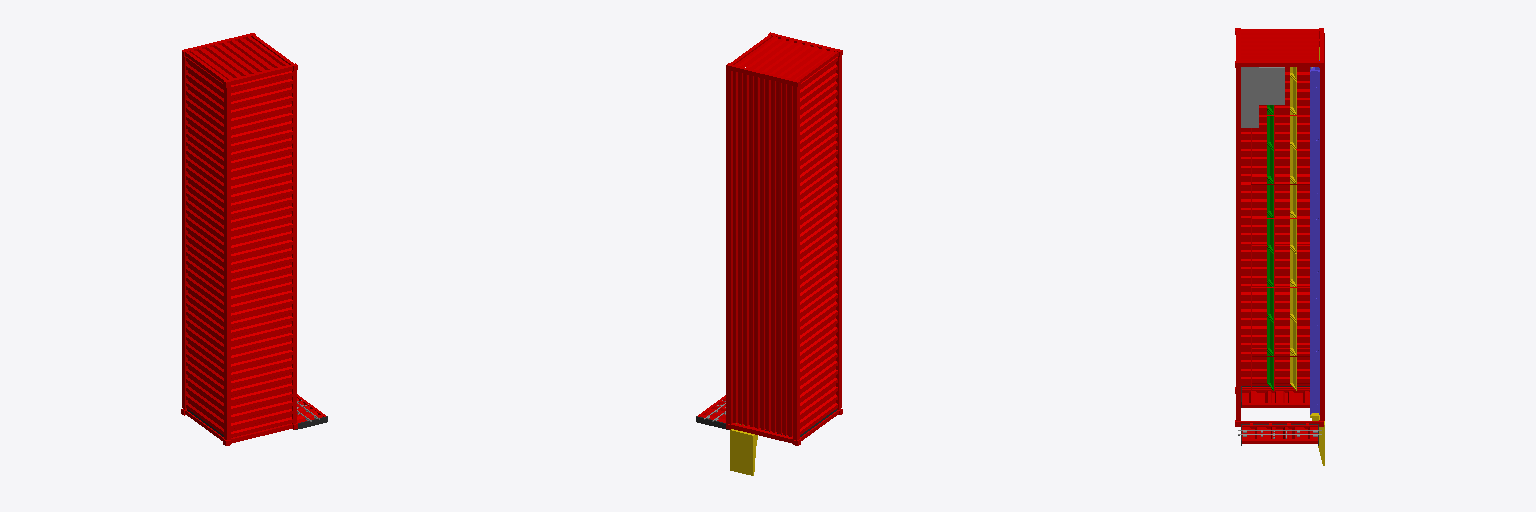
The model's file is ShippingContainer.obj.
3 renders of one model, left to right at view 1: azimuth 30°, elevation 25°; view 2: azimuth 150°, elevation 25°; view 3: azimuth 270°, elevation 25°, orthographic.
Parts seen in each view (by area): view 1: Roof, Wall_Left, Frame_Container, Wall_Back, Door_Right; view 2: Floor, Wall_Left, Frame_Container, Wall_Back, Ramp, Door_Right; view 3: Wall_Left, Frame_Container, Bins, Conveyor, Wall_Back, Filler, Door_Right, Door_Left, Frame_Bins.
Part boxes in pixels (left/top/right/bottom): Roof: left=231, top=71, right=292, bottom=437; Wall_Left: left=186, top=57, right=223, bottom=434; Frame_Container: left=181, top=33, right=297, bottom=445; Wall_Back: left=190, top=36, right=288, bottom=79; Door_Right: left=295, top=394, right=327, bottom=429; Floor: left=733, top=71, right=792, bottom=436; Wall_Left: left=800, top=57, right=837, bottom=434; Frame_Container: left=726, top=32, right=842, bottom=445; Wall_Back: left=735, top=36, right=833, bottom=79; Ramp: left=730, top=423, right=757, bottom=475; Door_Right: left=696, top=395, right=728, bottom=429; Wall_Left: left=1241, top=35, right=1319, bottom=388; Frame_Container: left=1235, top=28, right=1324, bottom=426; Bins: left=1267, top=47, right=1319, bottom=390; Conveyor: left=1310, top=60, right=1319, bottom=414; Wall_Back: left=1241, top=31, right=1318, bottom=60; Filler: left=1241, top=67, right=1284, bottom=127; Door_Right: left=1238, top=423, right=1321, bottom=445; Door_Left: left=1241, top=386, right=1309, bottom=407; Frame_Bins: left=1251, top=39, right=1319, bottom=390.
Bounding box in the file's own units: 3.7 × 13.65 × 2.73.